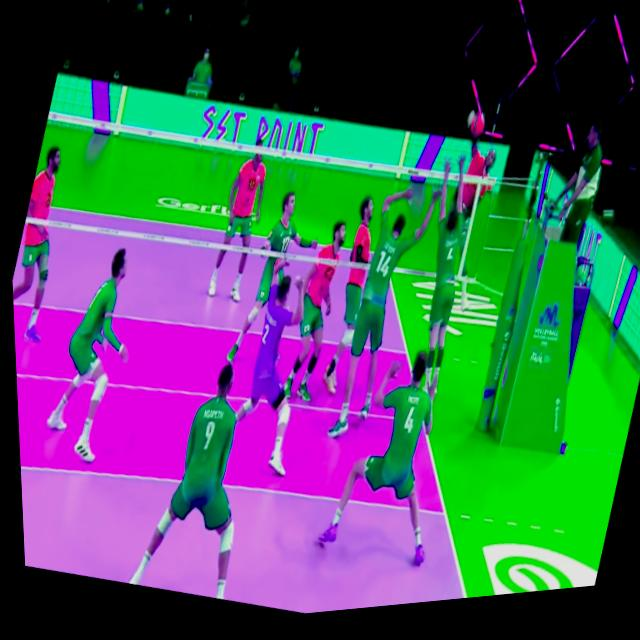player: (117, 349, 278, 610), (305, 340, 470, 587), (317, 182, 451, 459), (381, 159, 493, 412), (214, 258, 334, 490), (32, 238, 151, 467), (220, 185, 327, 377), (306, 193, 392, 404), (5, 141, 91, 345), (266, 217, 355, 413), (197, 137, 284, 315), (434, 139, 507, 271)
